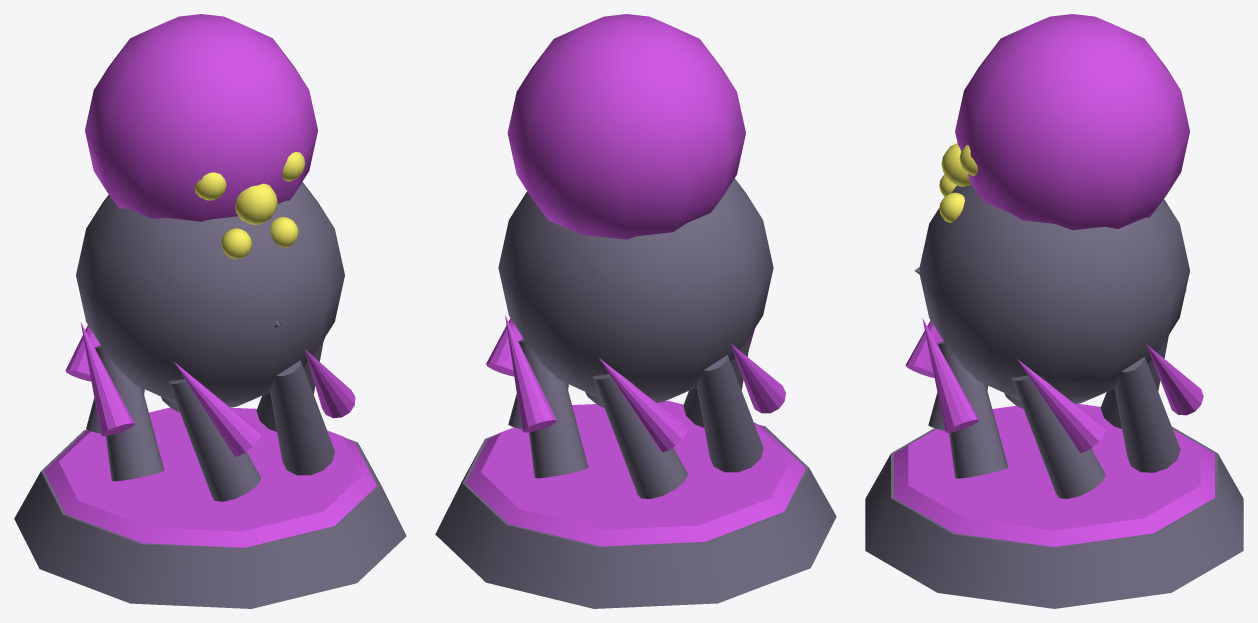
File: cosmic_horror.glb
3 renders of one model, left to right at view 1: azimuth 30°, elevation 25°; view 2: azimuth 150°, elevation 25°; view 3: azimuth 270°, elevation 25°, orthographic. The views are drawn at different scales.
Visible parts, largest first — view 1: cosmic_horror; view 2: cosmic_horror; view 3: cosmic_horror.
Boxes of the visible parts, x1,y1,x2,y2 form: cosmic_horror: (14,14,406,608); cosmic_horror: (435,14,836,608); cosmic_horror: (865,14,1243,608).
Bounding box in the file's own units: 0.88 × 1.22 × 0.8369.
